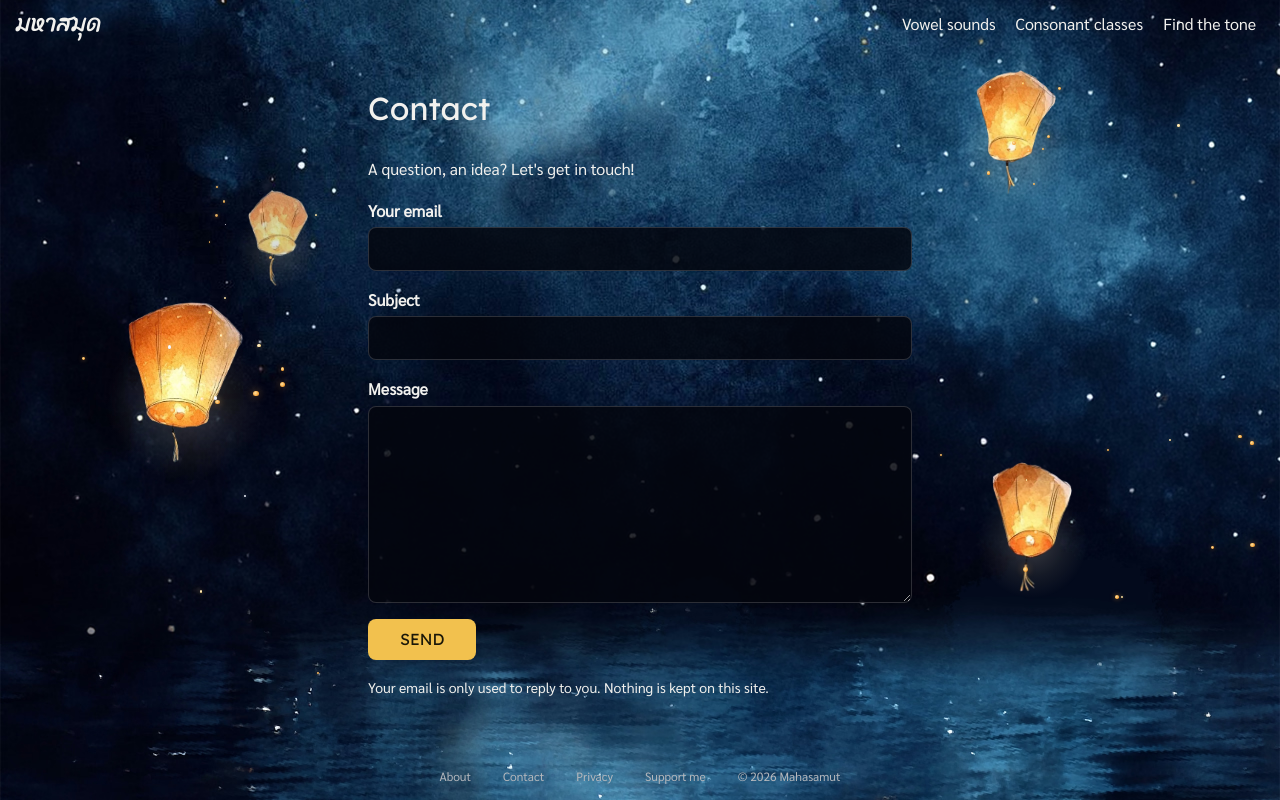
Test: ContactPage › says what is missing without sending
What coordinates should you click on to do the following:
click the button "Send"
I would click on:
 (422, 640)
Its box is 368,619 -> 476,660.
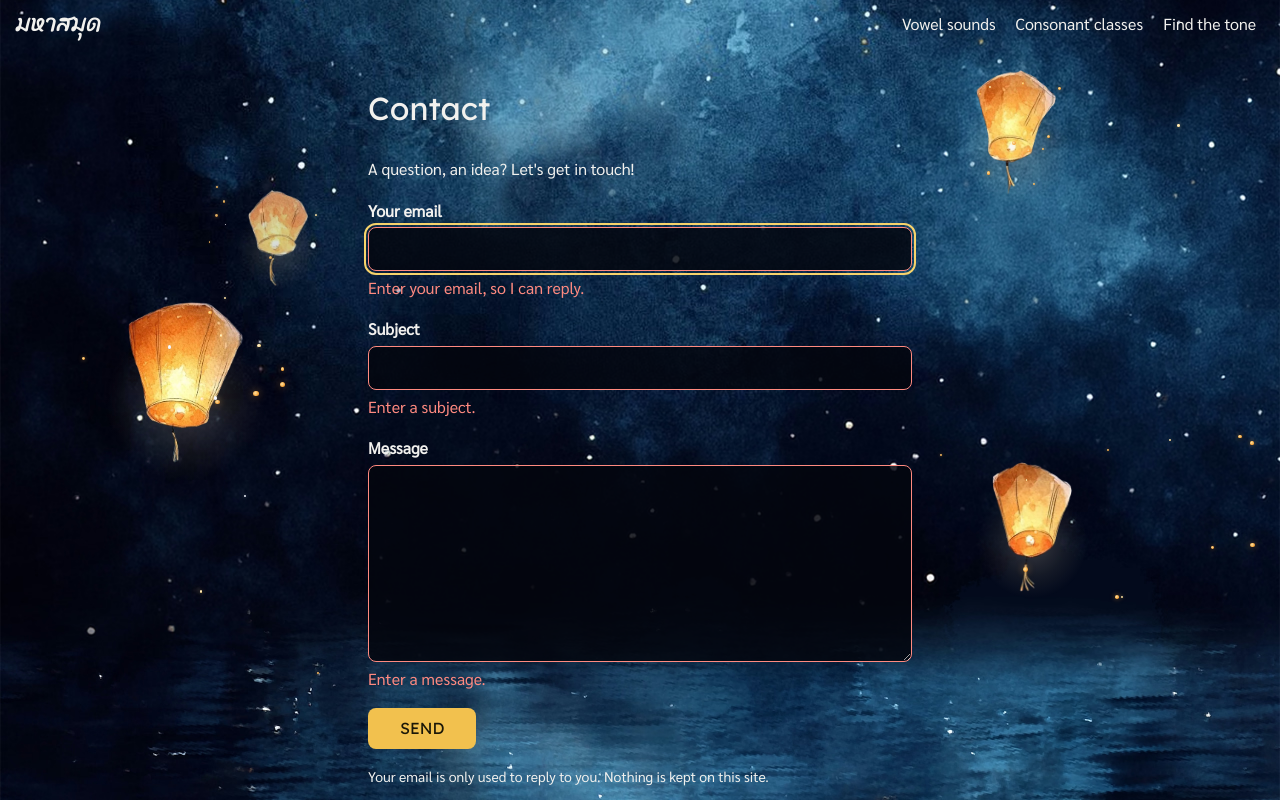
Now the text "Enter your email, so I can reply." is shown, box 368,277 -> 584,298
Now the text "Enter a subject." is shown, box 368,396 -> 476,417
Now the text "Enter a message." is shown, box 368,668 -> 486,689
